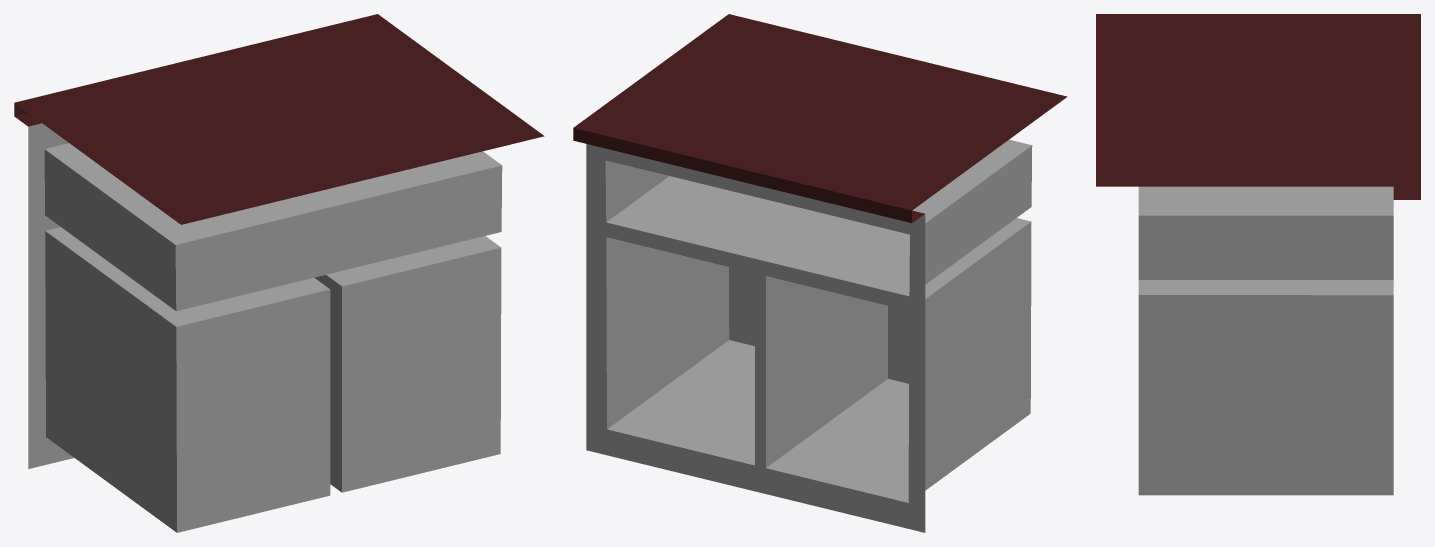
The model's file is 1Draw2DoorCabinet.fbx.
3 renders of one model, left to right at view 1: azimuth 30°, elevation 25°; view 2: azimuth 150°, elevation 25°; view 3: azimuth 270°, elevation 25°, orthographic. The views are drawn at different scales.
Parts seen in each view (by area): view 1: polySurface73; view 2: polySurface73; view 3: polySurface73.
Boxes of the visible parts, left/top/right/bottom form: polySurface73: left=14, top=14, right=544, bottom=532; polySurface73: left=573, top=14, right=1067, bottom=532; polySurface73: left=1096, top=14, right=1420, bottom=495.
Size of the model in its own units: 2.34 by 2.19 by 1.86.
